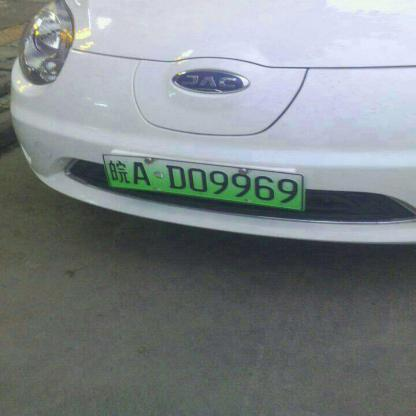lp: (103, 154, 302, 210)
